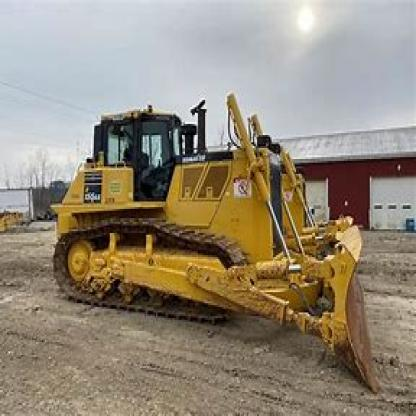bull_dozer/loader/grader: (44, 98, 394, 394)
